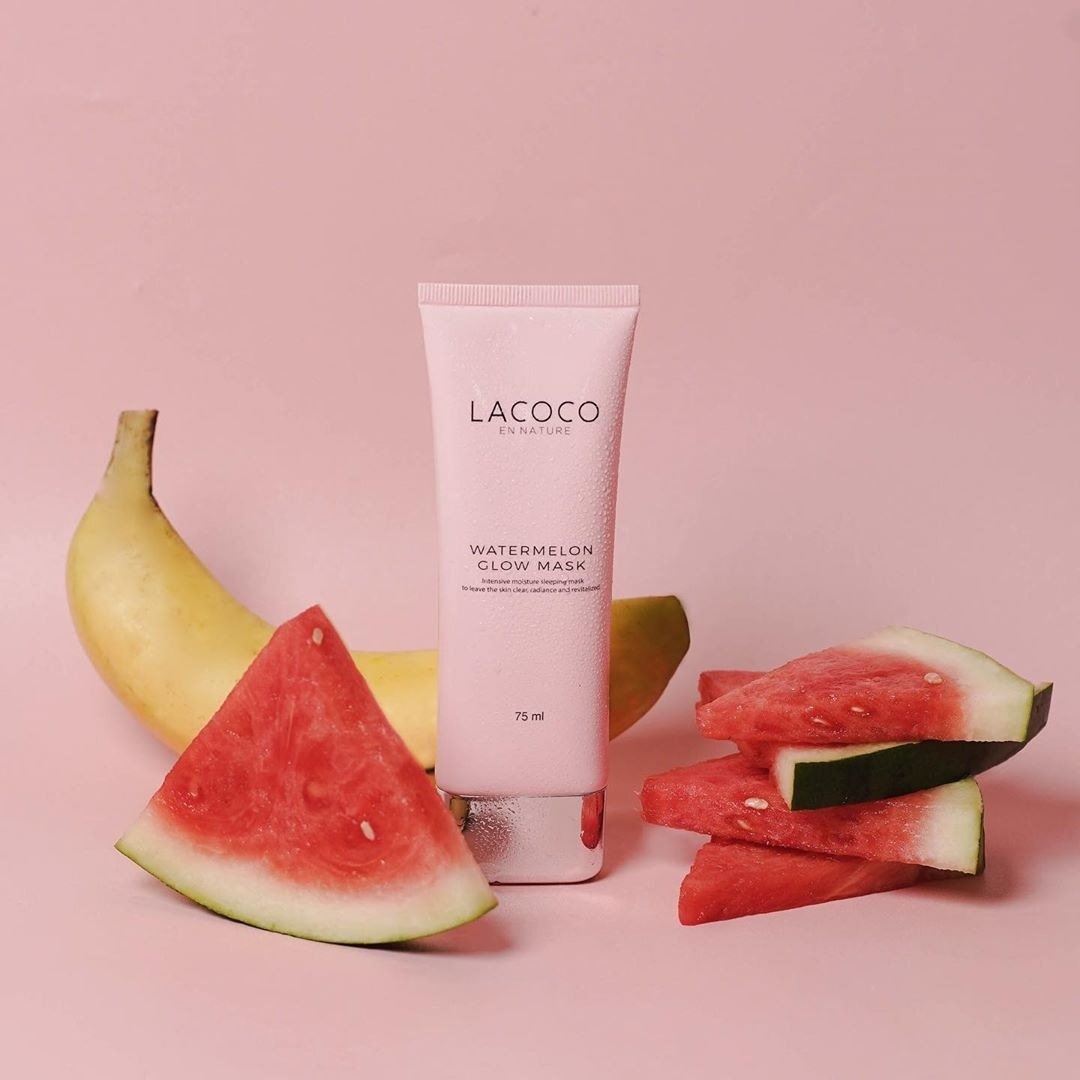Semangka: (170, 591, 462, 984), (694, 653, 1030, 743), (676, 760, 977, 860), (660, 847, 918, 922)
